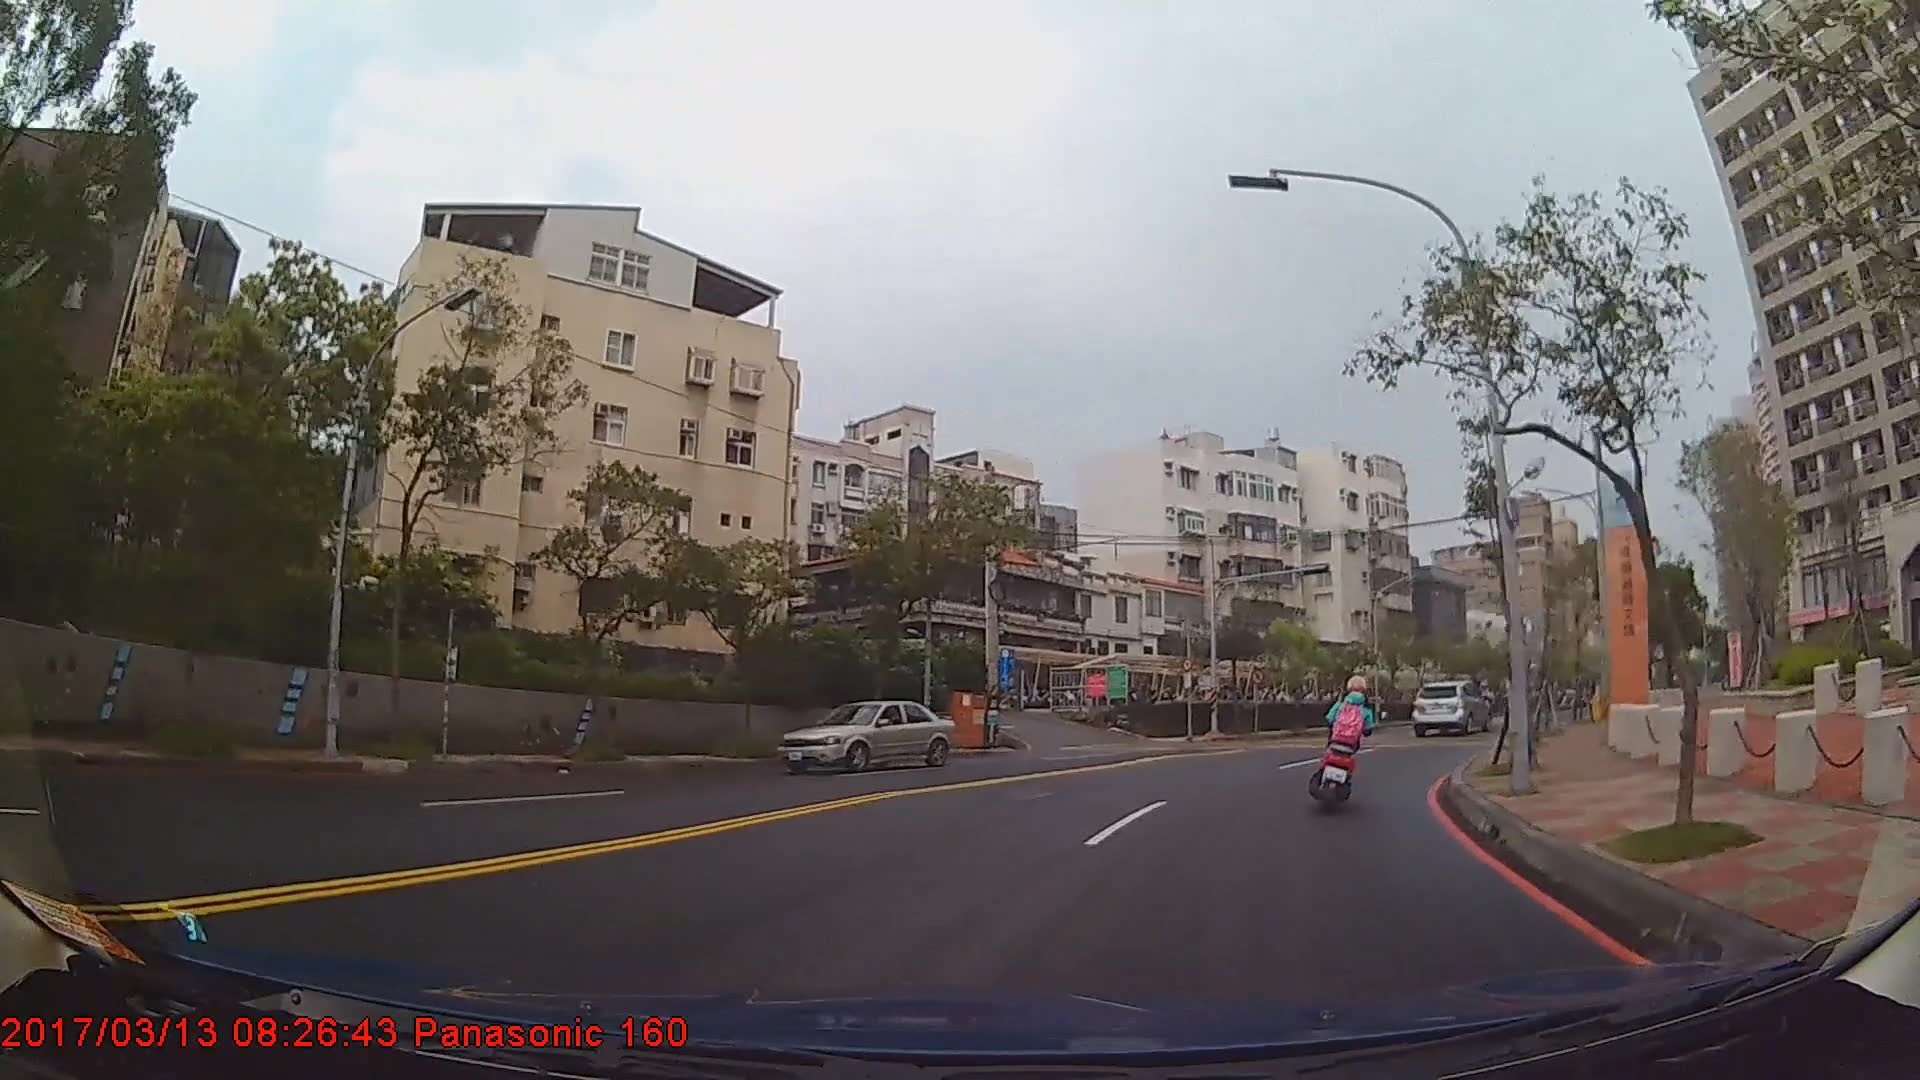rider: (1319, 675, 1378, 804)
vehicle: (773, 699, 958, 773), (1408, 680, 1493, 734)
